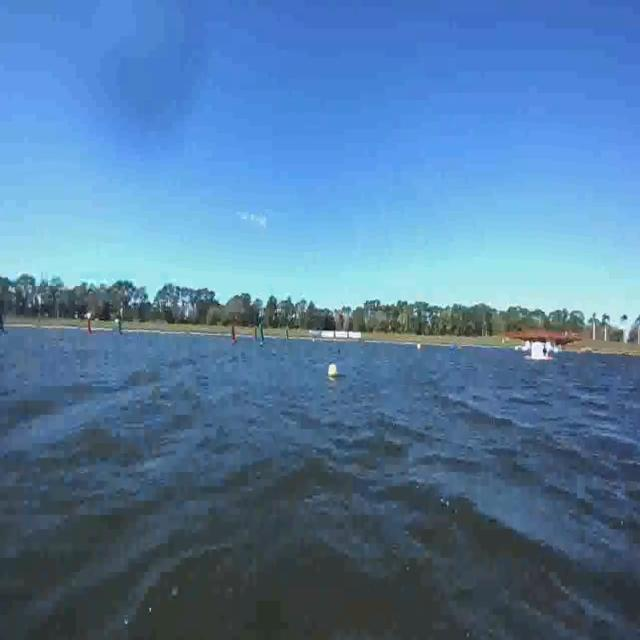green-column-buoy: (0, 299, 9, 337), (258, 319, 264, 341)
red-column-buoy: (88, 317, 96, 336), (230, 326, 236, 347)
yellow-buoy: (328, 362, 337, 376)
